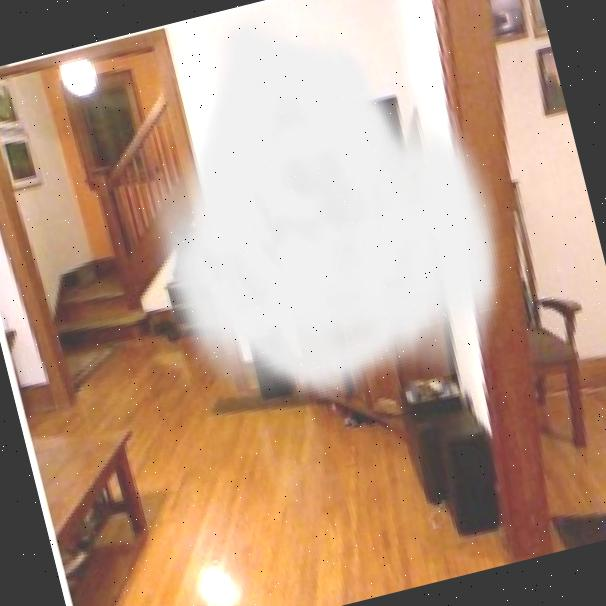smoke: (240, 94, 464, 333)
